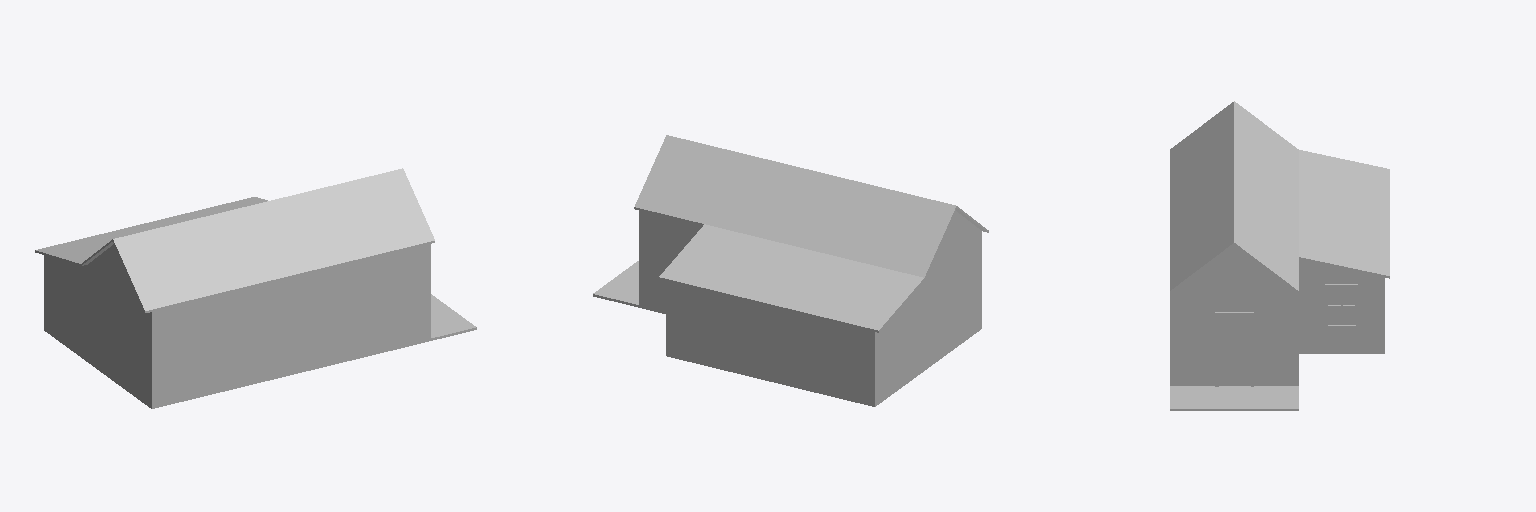
Rendered from cabin.obj.
The picture shows the model from 3 angles: view 1: azimuth 30°, elevation 25°; view 2: azimuth 150°, elevation 25°; view 3: azimuth 270°, elevation 25°; orthographic projection.
Visible parts, largest first — view 1: Cube; view 2: Cube; view 3: Cube.
Part boxes in pixels (x1,y1,x2,y2): Cube: (35,168,476,408); Cube: (593,135,988,406); Cube: (1170,101,1389,410).
Size of the model in its own units: 10.88 by 4.64 by 6.25.